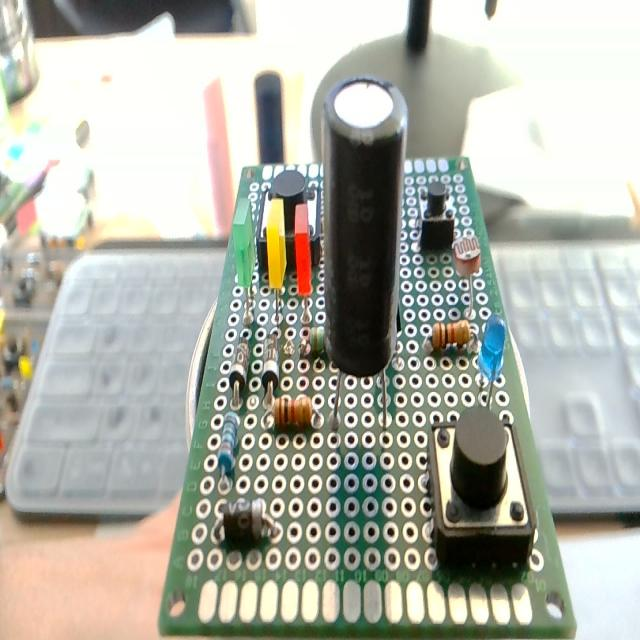Electrolytic capacitor: (316, 68, 408, 433)
cds: (452, 229, 487, 318)
diode: (195, 490, 291, 552), (224, 326, 251, 408), (260, 327, 279, 407)
led: (262, 192, 291, 324), (232, 194, 258, 322), (474, 314, 507, 414), (293, 199, 314, 330)
resistor: (214, 406, 247, 488), (263, 394, 314, 434), (424, 322, 473, 356)
switch: (423, 403, 540, 584), (414, 180, 456, 253)
